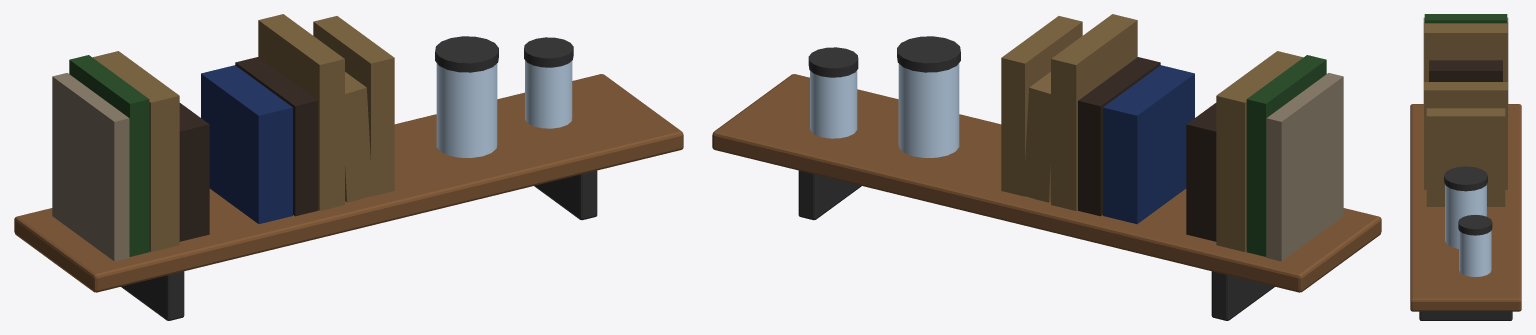
The model's file is wall_shelf.glb.
The picture shows the model from 3 angles, left to right: view 1: azimuth 30°, elevation 25°; view 2: azimuth 150°, elevation 25°; view 3: azimuth 270°, elevation 25°; orthographic projection. The views are drawn at different scales.
Visible parts, largest first — view 1: wall_shelf; view 2: wall_shelf; view 3: wall_shelf.
Boxes of the visible parts, x1,y1,x2,y2 form: wall_shelf: (14, 14, 683, 320); wall_shelf: (712, 14, 1381, 320); wall_shelf: (1410, 14, 1521, 320).
Size of the model in its own units: 1 by 0.3628 by 0.24.
